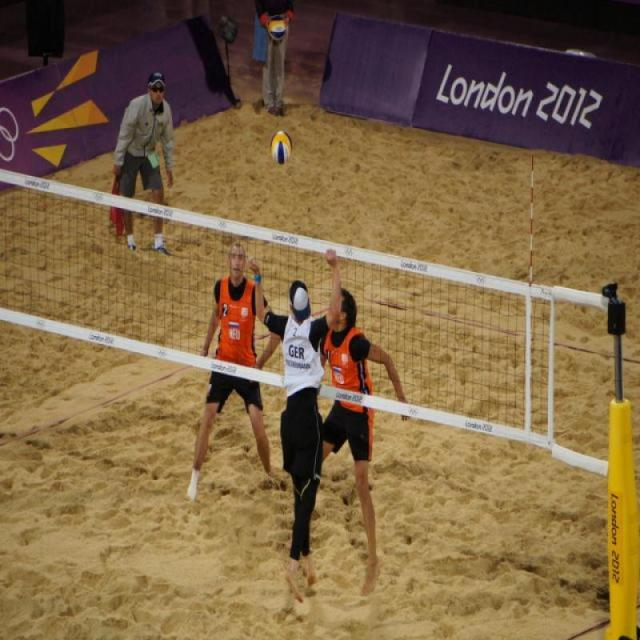volleyball: (268, 129, 292, 164), (266, 13, 288, 42)
